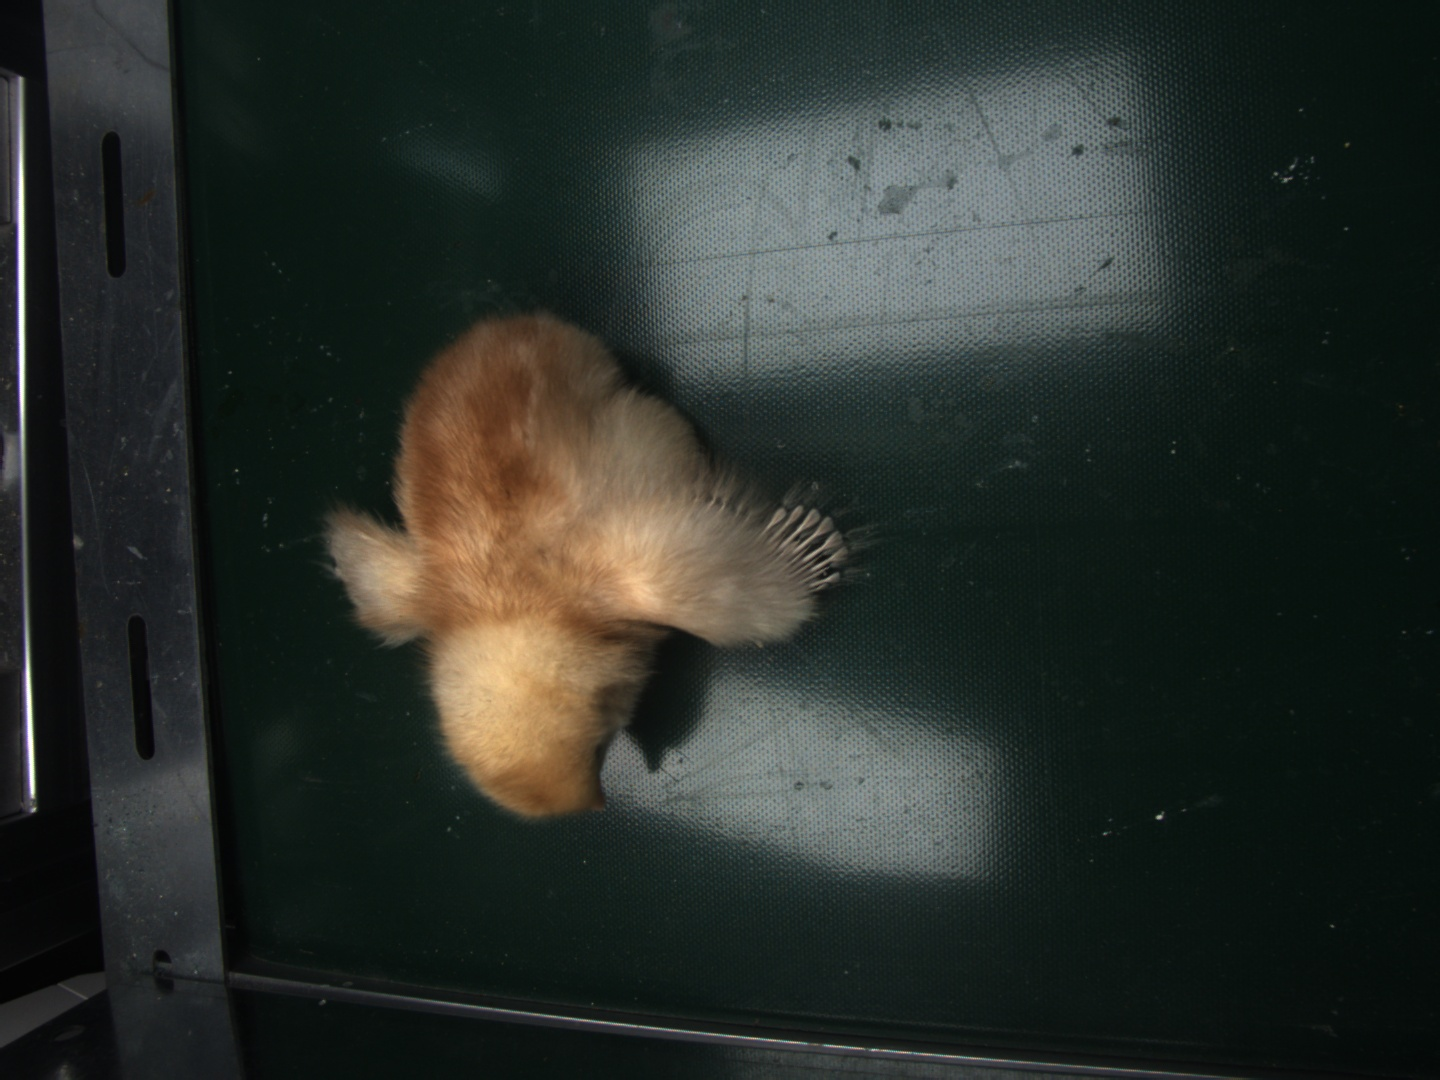female: (762, 506, 848, 591)
